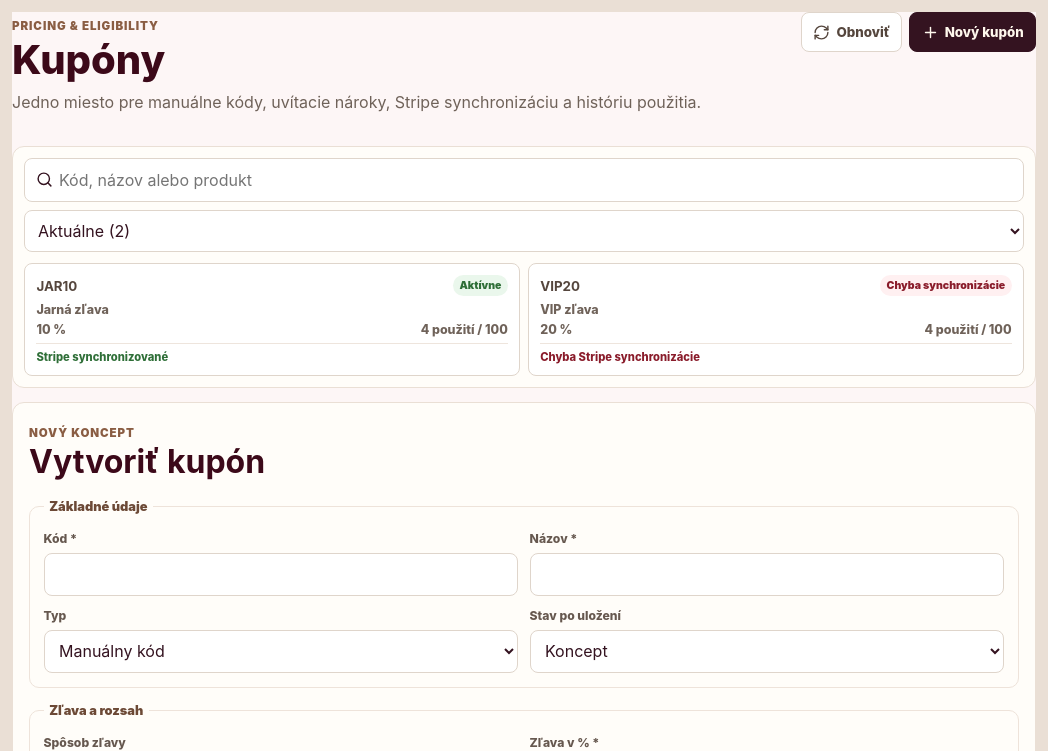
Scenario: AdminCouponsSection › lists, searches, and filters lifecycle states accessibly
Check: the button "JAR10" is shown, box [24,263,520,376]
Check: the button "VIP20" is shown, box [528,263,1024,376]
Select "Chyba synchronizácie (1)" in the dropdown named "Stav kupónu": (524, 231) [24,210,1024,252]
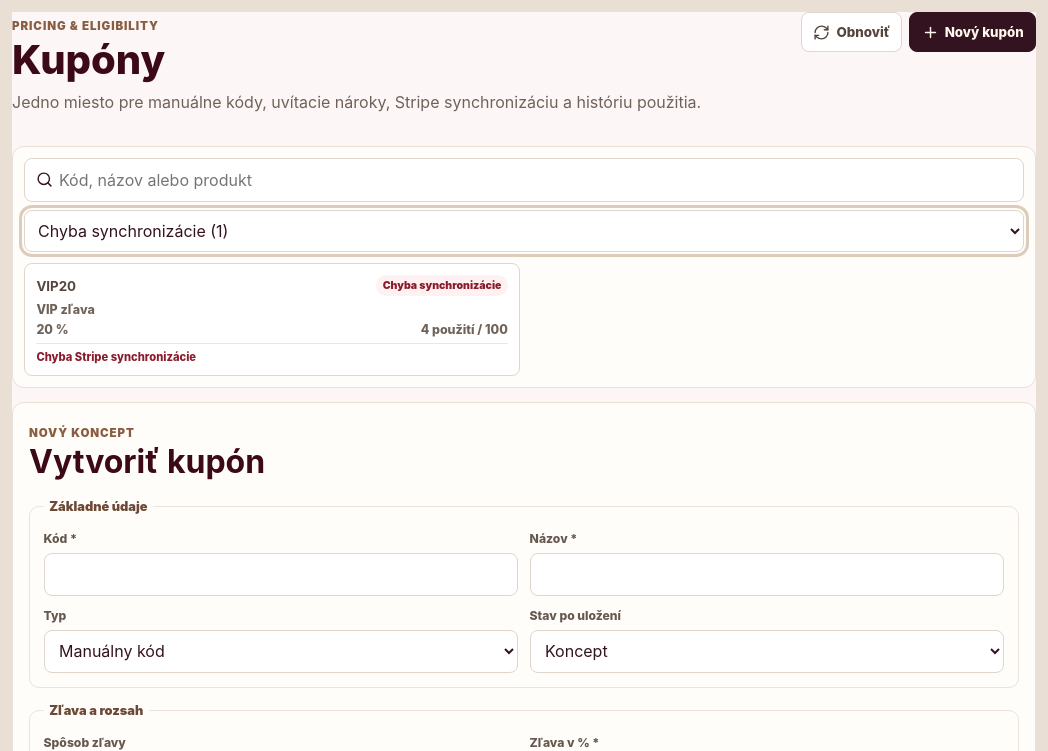
Check: the button "VIP20" is shown, box [24,263,520,376]
Check: the button "JAR10" is gone
Select "Všetky (3)" in the dropdown named "Stav kupónu": (524, 231) [24,210,1024,252]
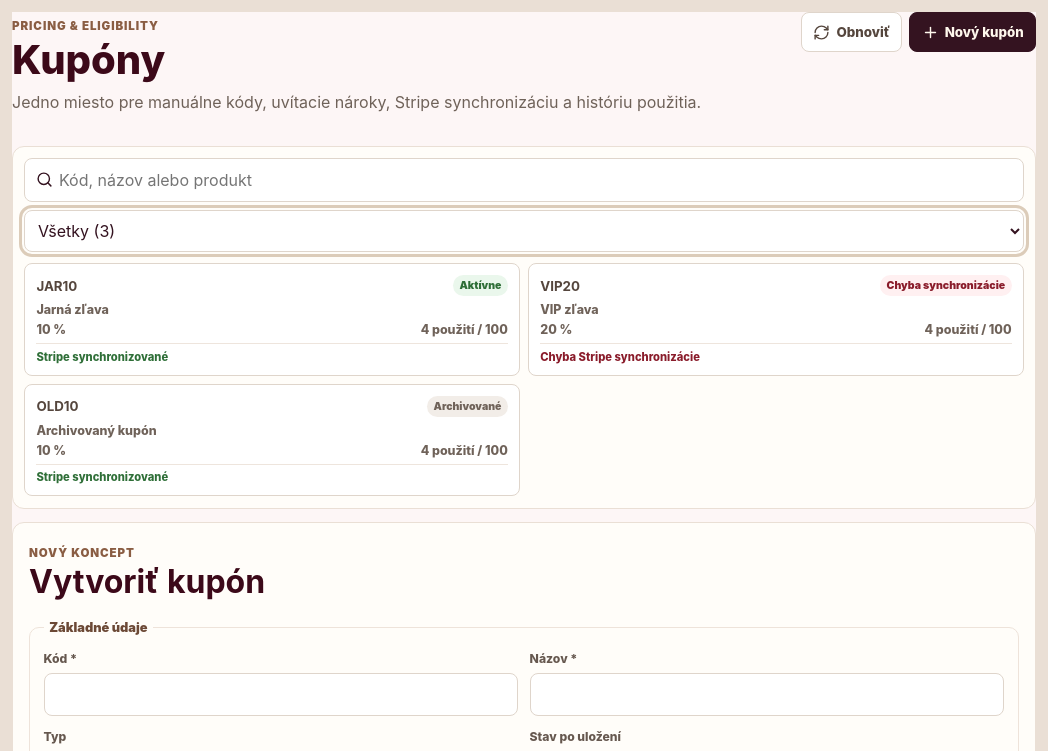
Check: the button "OLD10" is shown, box [24,384,520,496]
In the field named "Hľadať kupón": (536, 180) [59,159,1012,201], type "jarná"
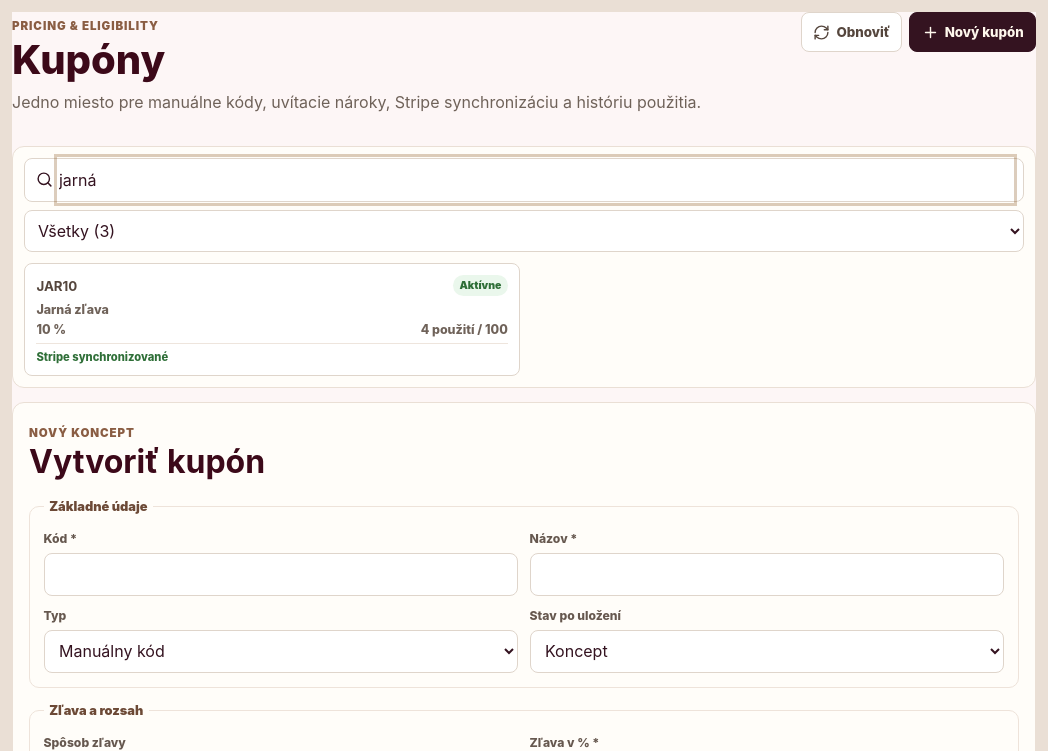
Check: the button "JAR10" is shown, box [24,263,520,376]
Check: the button "VIP20" is gone
